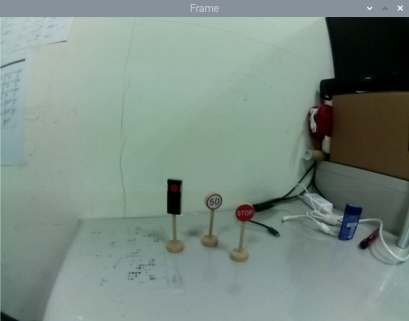Red: (164, 177, 185, 220)
Speed50: (205, 191, 225, 211)
Stop: (233, 201, 256, 223)
